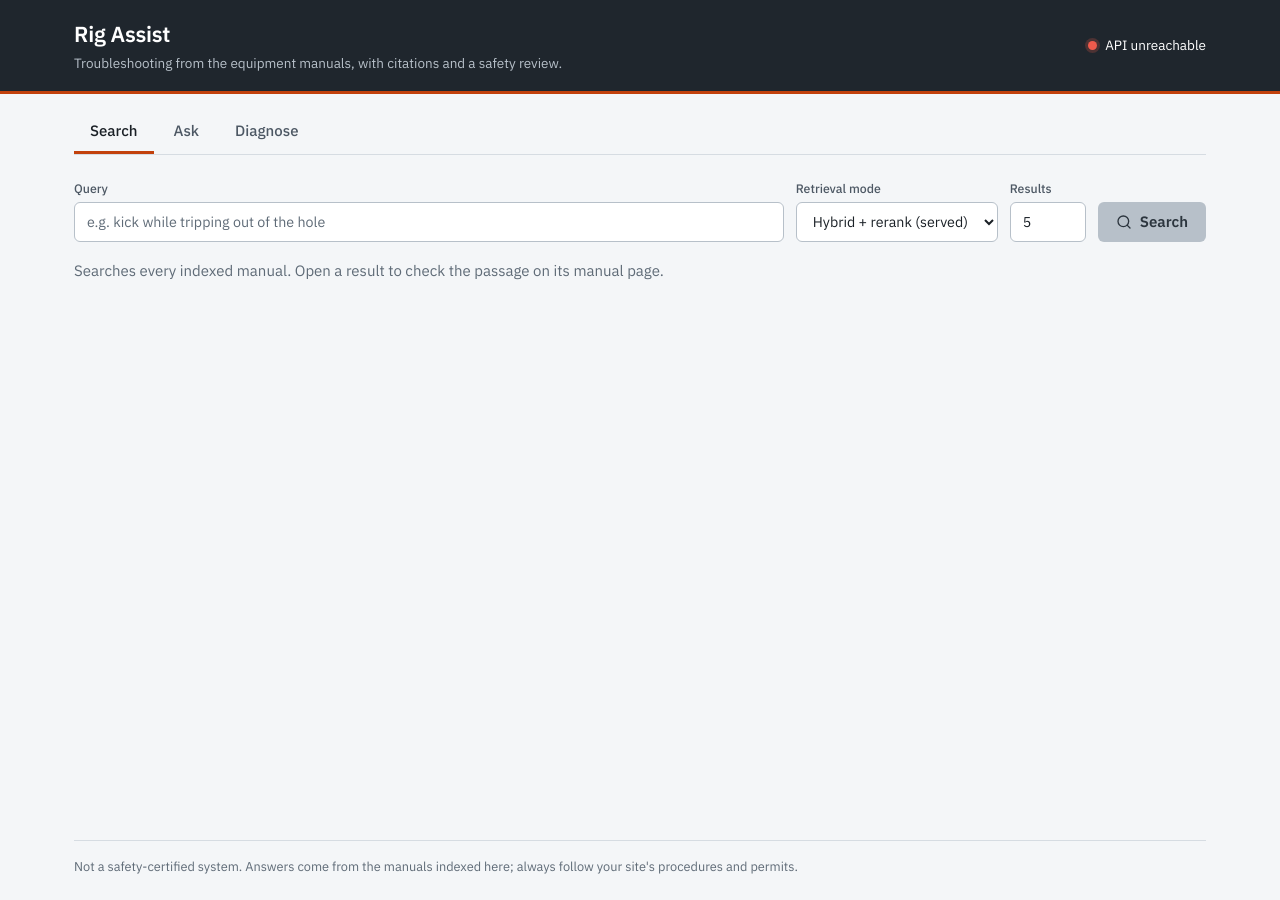
it: three tabs; Search is open first and the others open on click
This screenshot has width=1280, height=900.
Expected: the panel "Search" is shown, [74,179,1206,282]
Click the tab "Diagnose" at (267, 132), box [219,110,314,154]
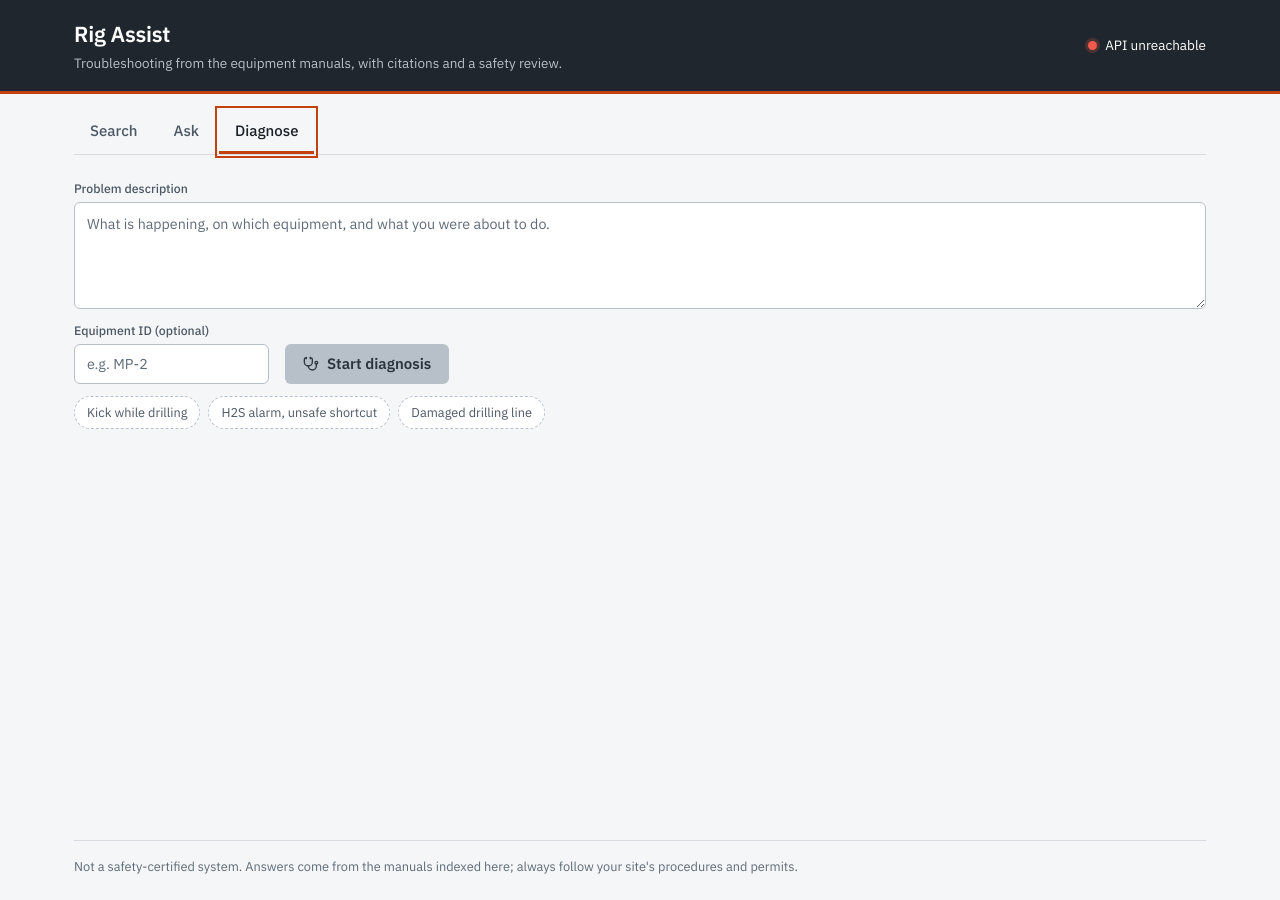
Now the panel named "Diagnose" is shown, box [74,179,1206,429]
